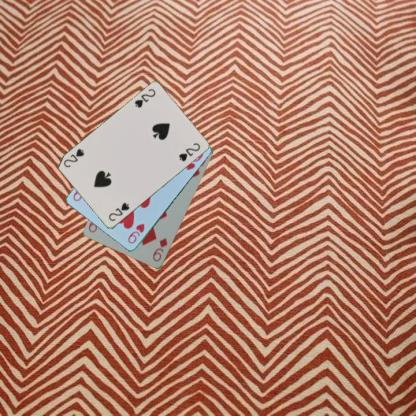2s: (106, 200, 130, 222), (132, 87, 156, 109)
9d: (150, 236, 169, 263)
9h: (124, 221, 146, 245)
